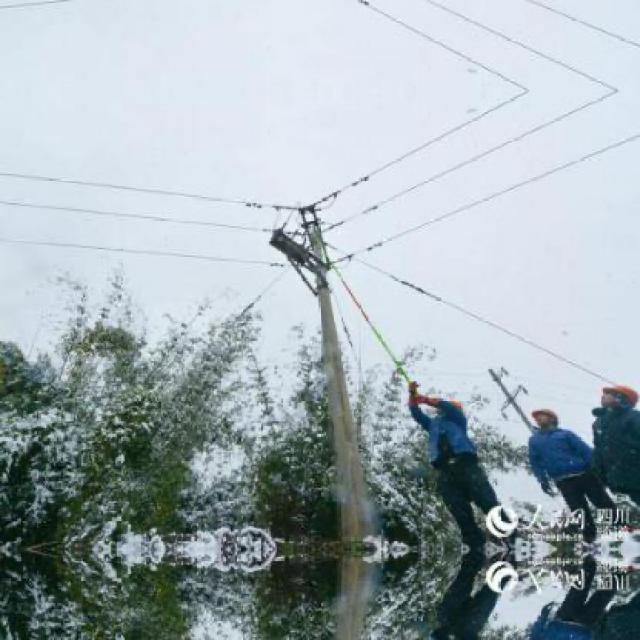helmet: (596, 378, 638, 422), (528, 402, 563, 431)
